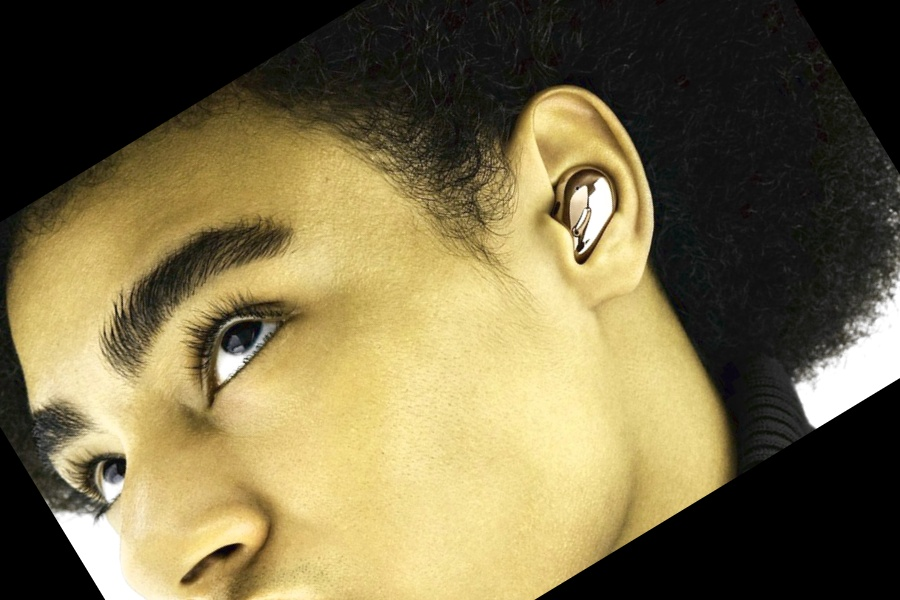earphone: (474, 64, 699, 317)
